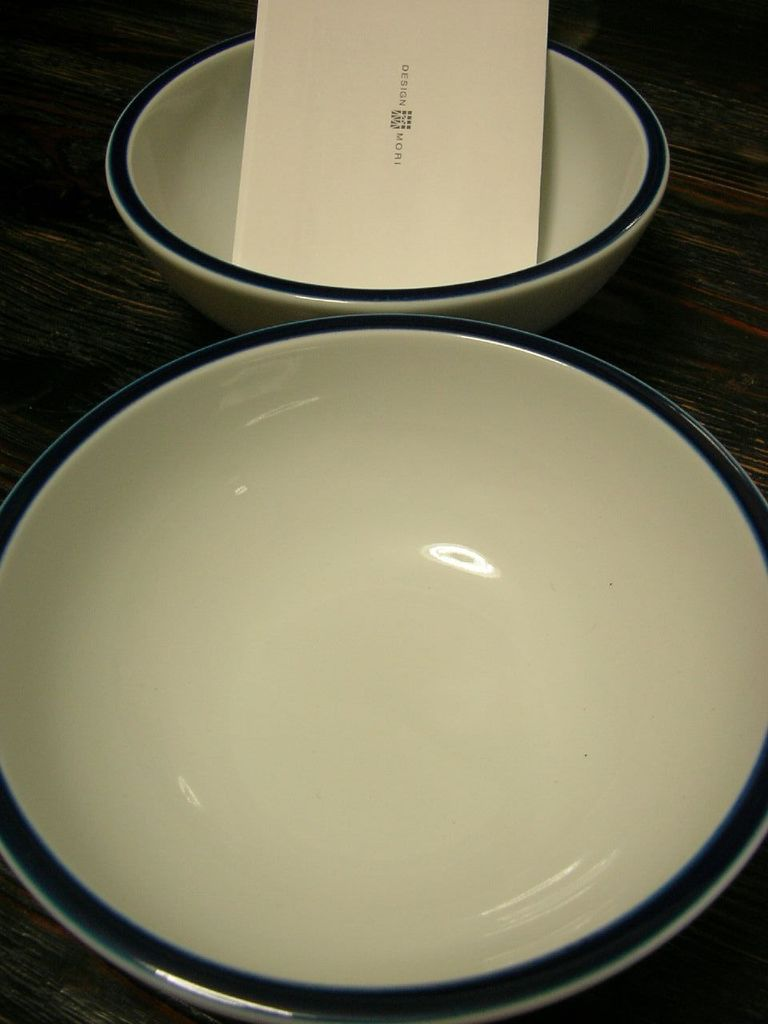plate: (0, 313, 767, 1023)
